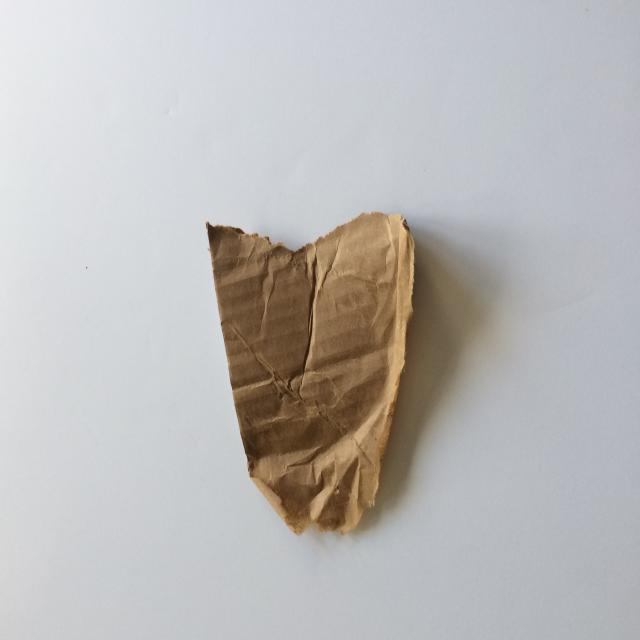cardboard: (204, 210, 416, 536)
